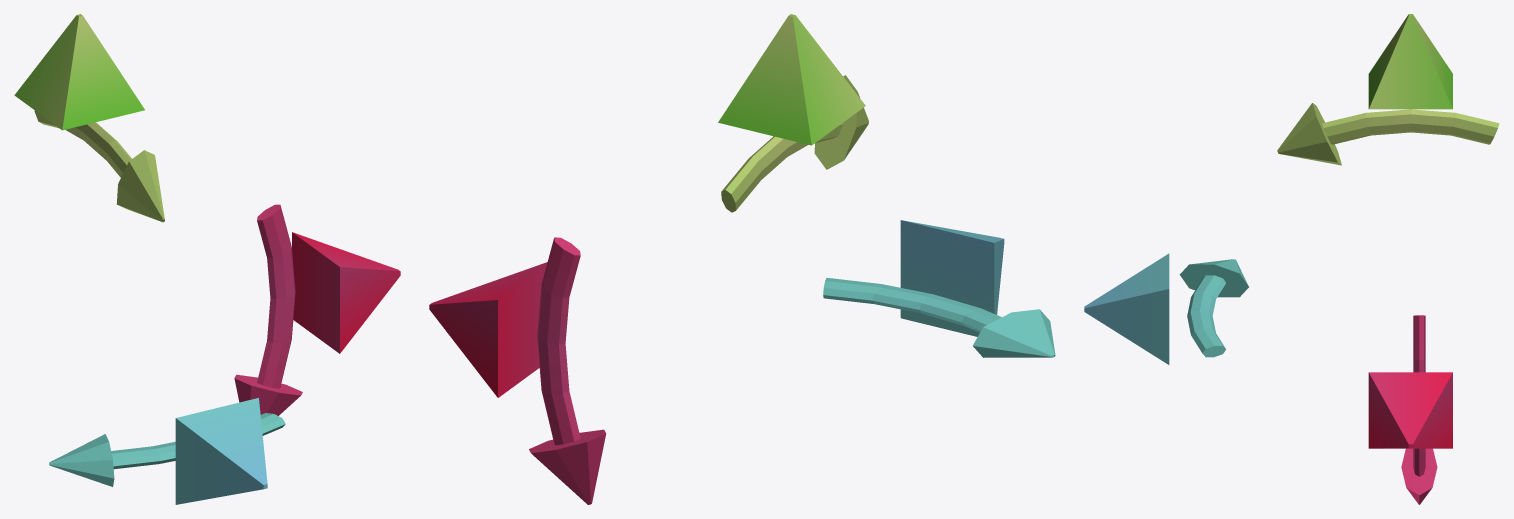
File: arrows_new3.fbx
3 renders of one model, left to right at view 1: azimuth 30°, elevation 25°; view 2: azimuth 150°, elevation 25°; view 3: azimuth 270°, elevation 25°, orthographic. The views are drawn at different scales.
Visible parts, largest first — view 1: Y-axis, Z-axis, X-axis, R-X-axis, R-Y-axis, R-Z-axis; view 2: Y-axis, X-axis, R-X-axis, Z-axis, R-Z-axis, R-Y-axis; view 3: X-axis, R-Y-axis, Y-axis, Z-axis, R-Z-axis, R-X-axis.
Part boxes in pixels (left/top/right/bottom): Y-axis: left=14, top=14, right=144, bottom=130; Z-axis: left=175, top=398, right=267, bottom=504; X-axis: left=292, top=232, right=400, bottom=353; R-X-axis: left=234, top=204, right=302, bottom=415; R-Y-axis: left=34, top=110, right=164, bottom=222; R-Z-axis: left=49, top=413, right=285, bottom=486; Y-axis: left=718, top=14, right=865, bottom=145; X-axis: left=429, top=262, right=547, bottom=397; R-X-axis: left=529, top=237, right=606, bottom=504; Z-axis: left=900, top=220, right=1004, bottom=336; R-Z-axis: left=823, top=278, right=1055, bottom=357; R-Y-axis: left=721, top=75, right=868, bottom=212; X-axis: left=1368, top=372, right=1452, bottom=448; R-Y-axis: left=1277, top=103, right=1499, bottom=165; Y-axis: left=1368, top=14, right=1452, bottom=109; Z-axis: left=1084, top=253, right=1169, bottom=364; R-Z-axis: left=1179, top=259, right=1248, bottom=357; R-X-axis: left=1401, top=315, right=1437, bottom=504.
Bounding box in the file's own units: 191 × 191 × 173.
